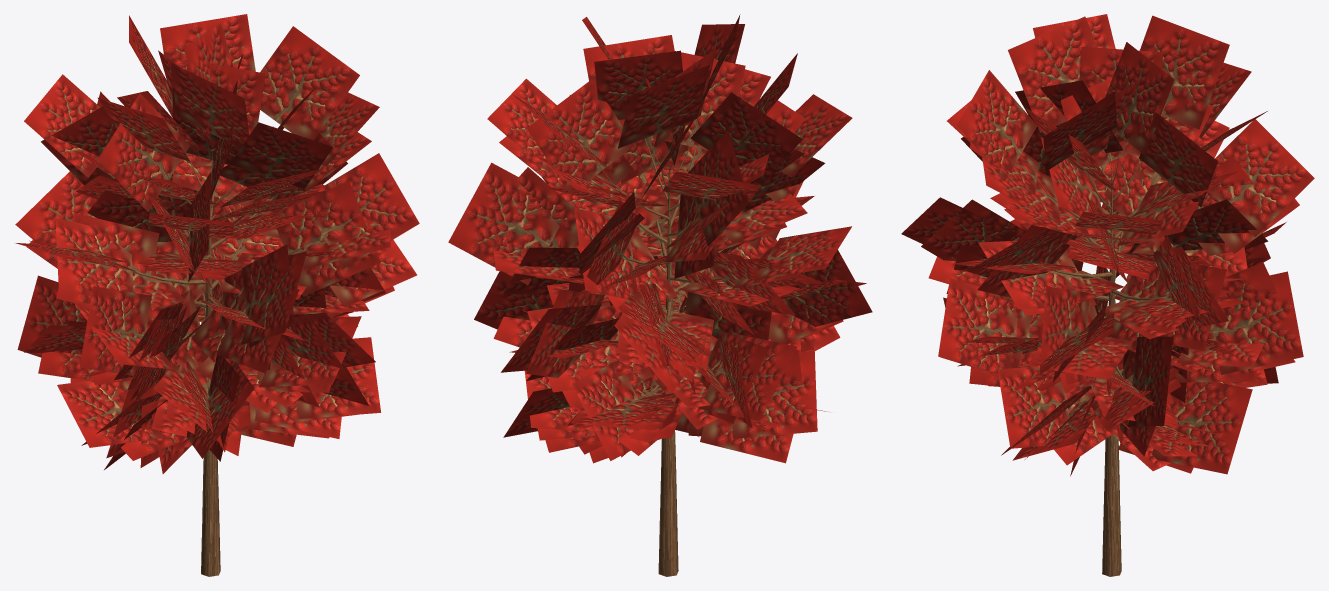
File: Nature_tree01b.fbx
3 renders of one model, left to right at view 1: azimuth 30°, elevation 25°; view 2: azimuth 150°, elevation 25°; view 3: azimuth 270°, elevation 25°, orthographic. The views are drawn at different scales.
Parts seen in each view (by area): view 1: leaves, tree; view 2: leaves, tree; view 3: leaves, tree.
Boxes of the visible parts, x1,y1,x2,y2 form: leaves: [15, 14, 419, 473]; tree: [114, 126, 319, 576]; leaves: [448, 14, 872, 463]; tree: [597, 118, 722, 576]; leaves: [901, 14, 1314, 476]; tree: [1024, 142, 1209, 576].
Bounding box in the file's own units: 2.92 × 4.3 × 3.04.
